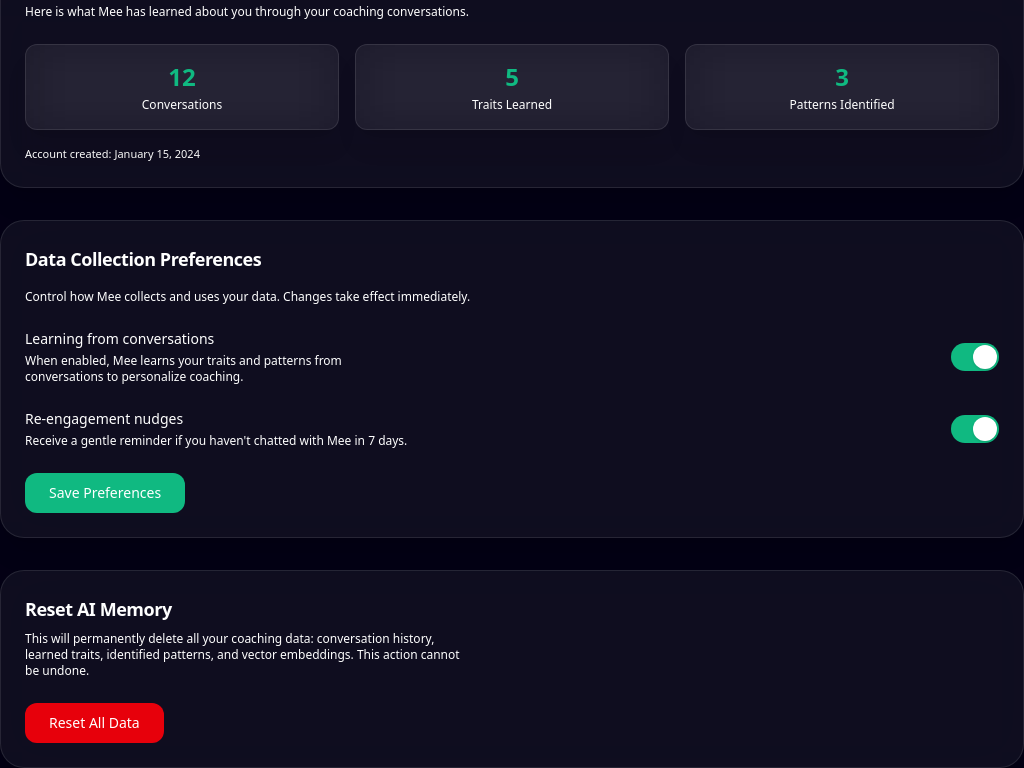
PrivacyControls › shows reset confirmation dialog
The width and height of the screenshot is (1024, 768).
(page scrolled)
Click the button "Reset All Data" at (94, 722), box x1=25 y1=702 x2=164 y2=742
(page scrolled)
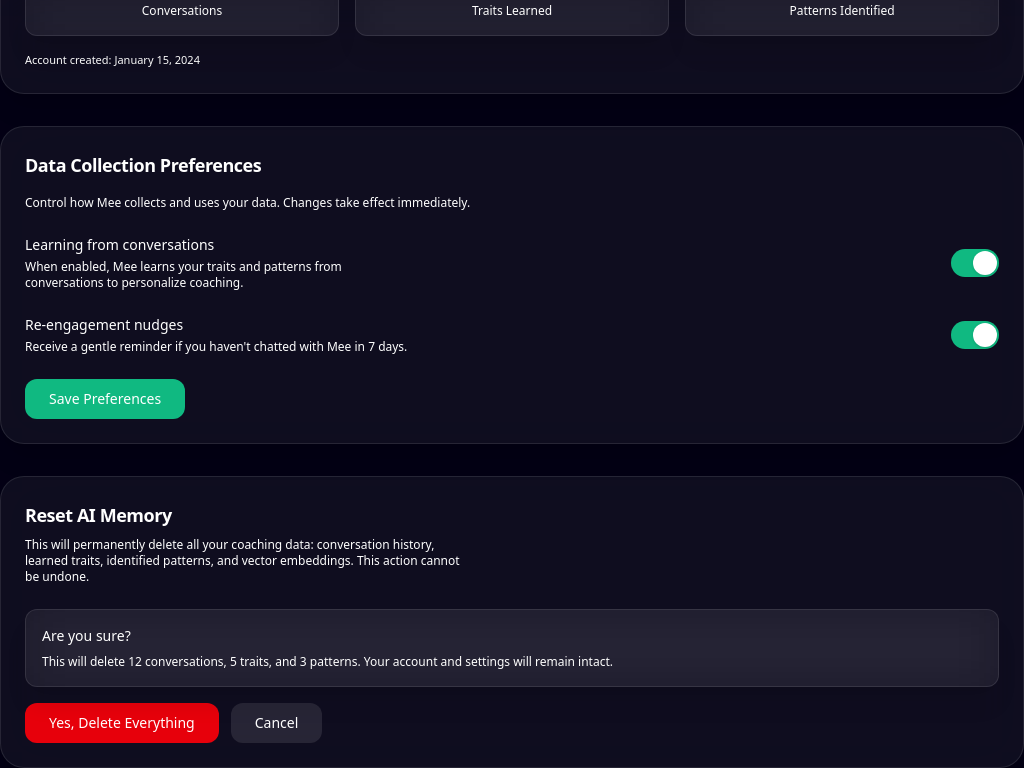
expect the text "Are you sure?" is shown: met, box x1=42 y1=626 x2=131 y2=644
expect the button "Yes, Delete Everything" is shown: met, box x1=25 y1=702 x2=219 y2=742
expect the button "Cancel" is shown: met, box x1=231 y1=702 x2=322 y2=742
